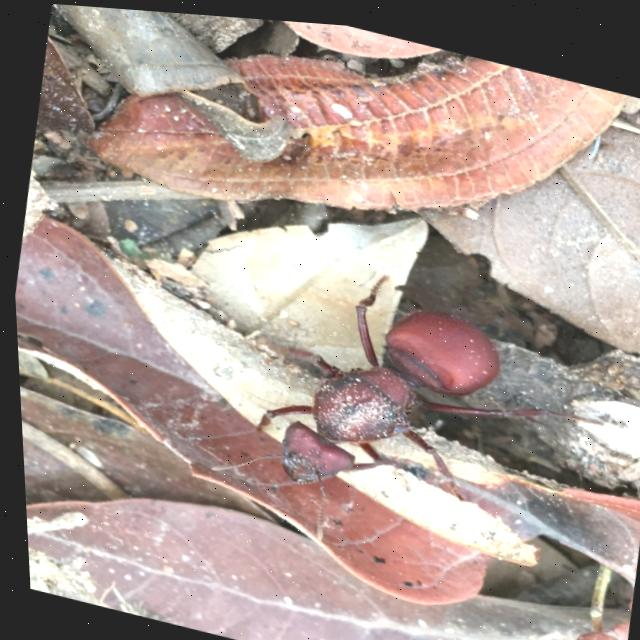Alive-Female-Dealate: (189, 232, 622, 598)
